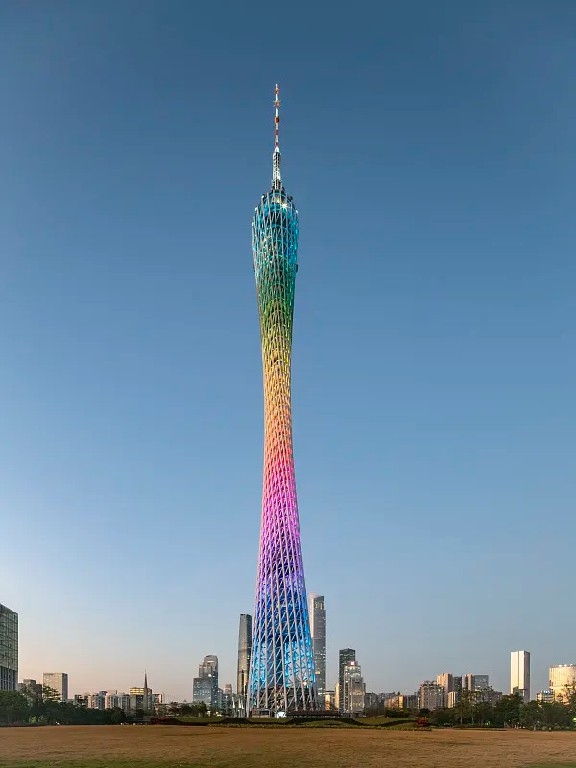Canton: (238, 80, 326, 713)
